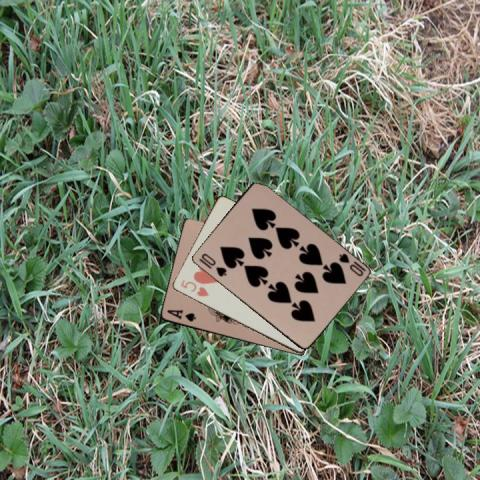10s: (198, 250, 228, 278), (335, 251, 364, 278)
5h: (177, 277, 210, 298)
As: (164, 307, 197, 323)
